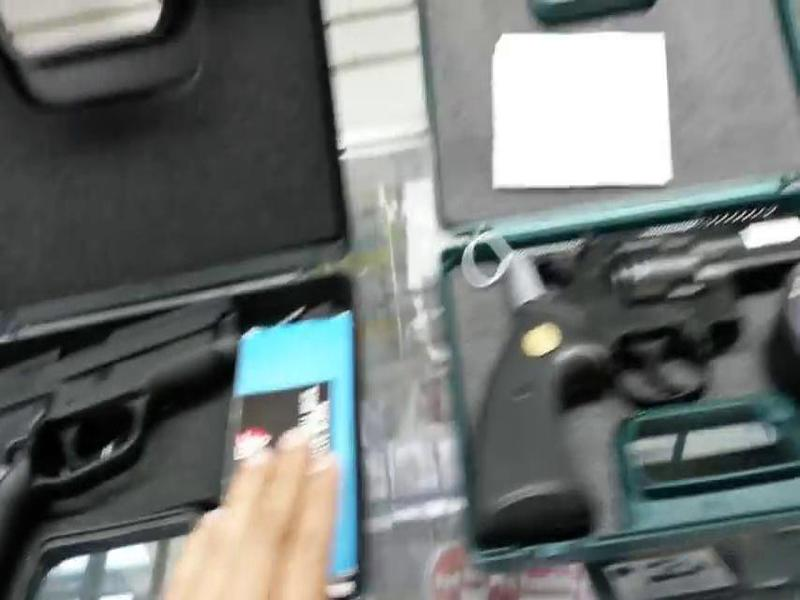Pistola: (1, 281, 283, 565)
Revolver: (457, 187, 800, 541)
